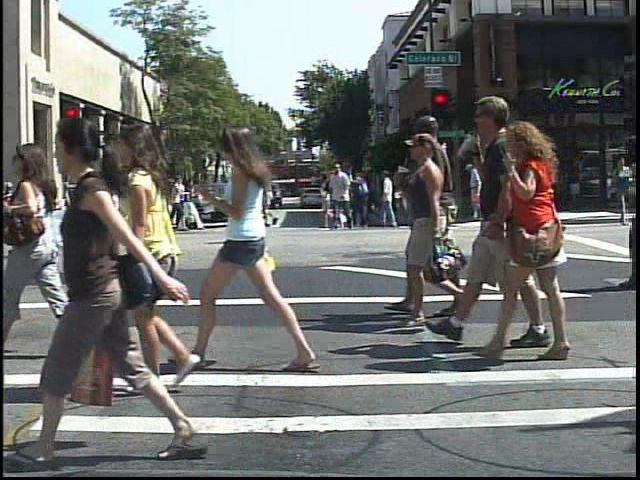person: (39, 101, 189, 470), (203, 111, 334, 380), (113, 117, 229, 398), (432, 83, 540, 352), (496, 117, 589, 362), (0, 141, 79, 355), (112, 161, 145, 242), (67, 163, 97, 242), (465, 158, 495, 231), (26, 168, 52, 243), (96, 180, 117, 223), (5, 175, 16, 241)
